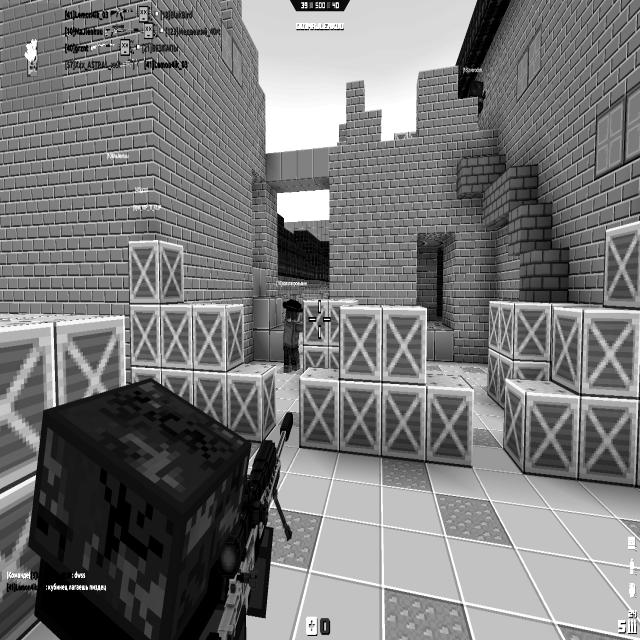Head: (27, 378, 252, 640), (282, 298, 302, 321), (468, 80, 483, 97)
Player: (282, 296, 304, 371)
